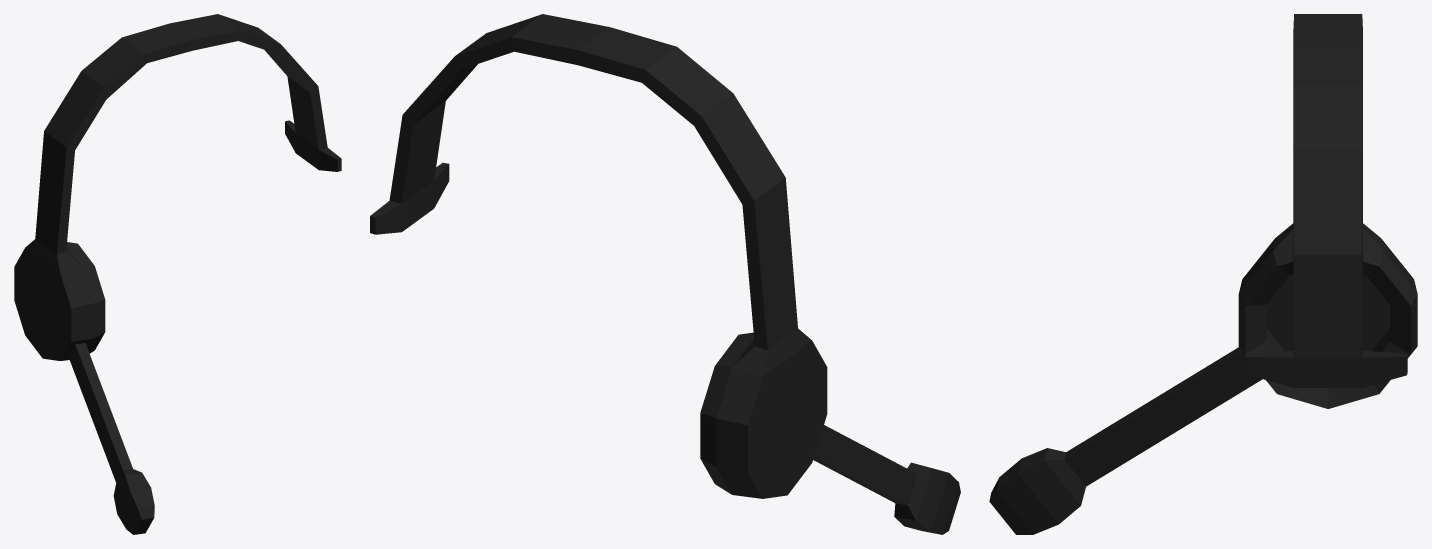
The model's file is HeadphonesV3.fbx.
3 renders of one model, left to right at view 1: azimuth 30°, elevation 25°; view 2: azimuth 150°, elevation 25°; view 3: azimuth 270°, elevation 25°, orthographic. The views are drawn at different scales.
Parts seen in each view (by area): view 1: HeadphonesV3; view 2: HeadphonesV3; view 3: HeadphonesV3.
Part boxes in pixels (left/top/right/bottom): HeadphonesV3: left=14, top=14, right=341, bottom=534; HeadphonesV3: left=370, top=14, right=960, bottom=534; HeadphonesV3: left=989, top=14, right=1417, bottom=534.
Bounding box in the file's own units: 23.11 × 30.09 × 19.74.
